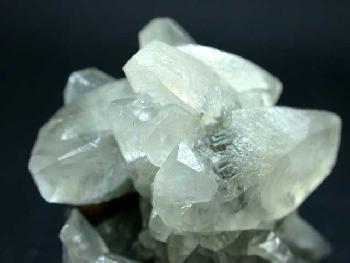calcite: (29, 19, 342, 262)
